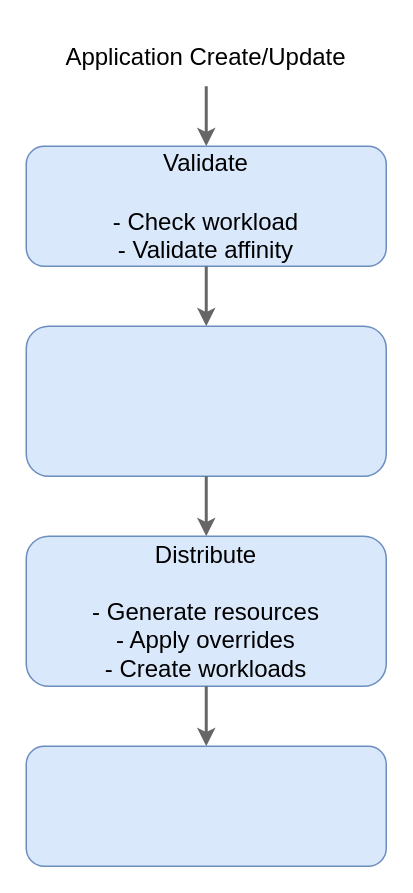
The diagram is 413 pixels wide and 893 high, and some of its shapes have lost their labels. The box of each missing label's shape, as (x1, y1, x2, y2) in pixels:
Schedule - Filter clusters - Score clusters - Select targets: (25, 325, 386, 476)
Update Status - Record targets - Set conditions: (25, 745, 386, 866)
